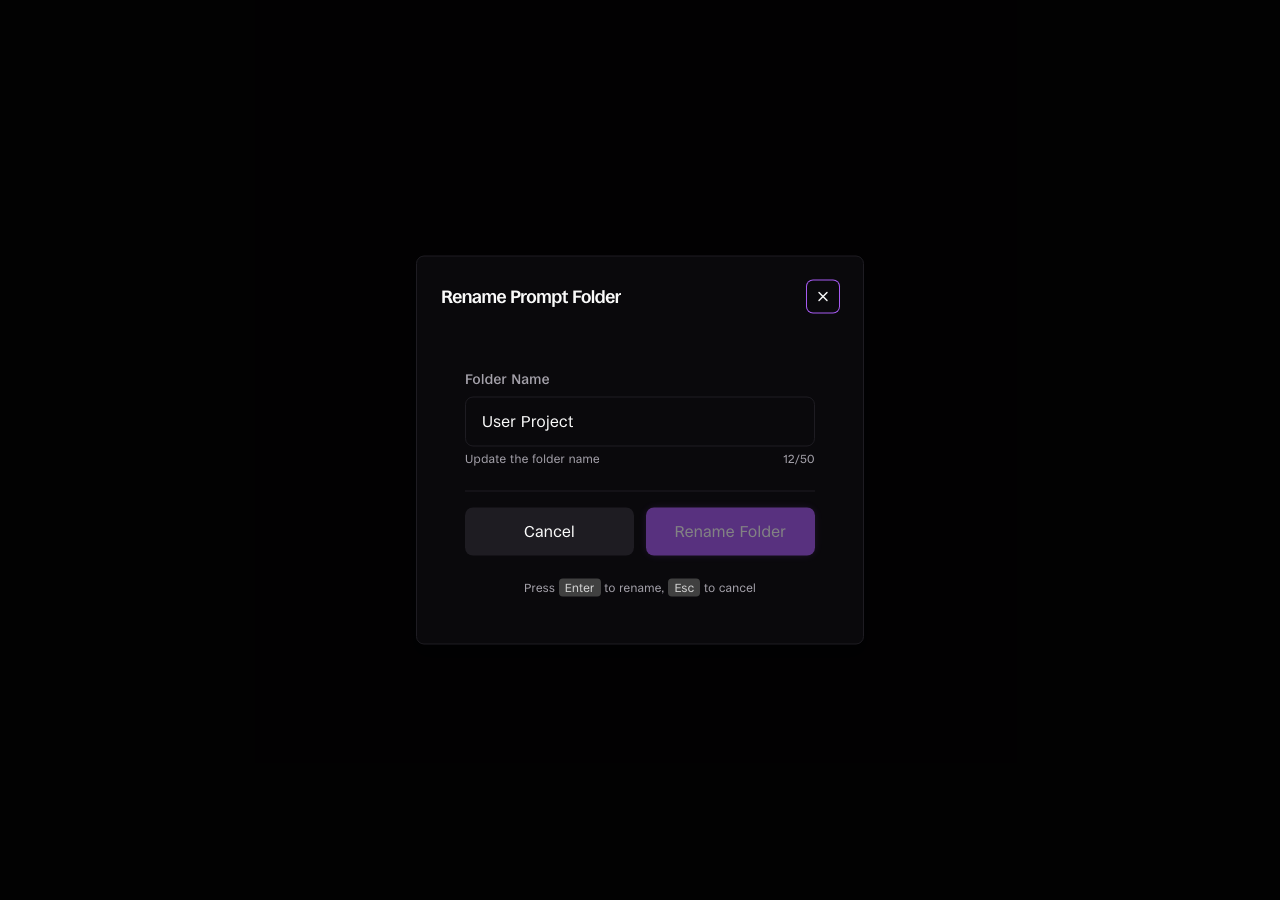
it: Folder Operations Error Handling › Network Error Handling › should handle network errors during rename operation with retry option
Note: Change the name and submit
Replace the text in the field labelled "Folder Name" with "New Folder Name" at {"x": 640, "y": 422}, box [465,396,815,446]
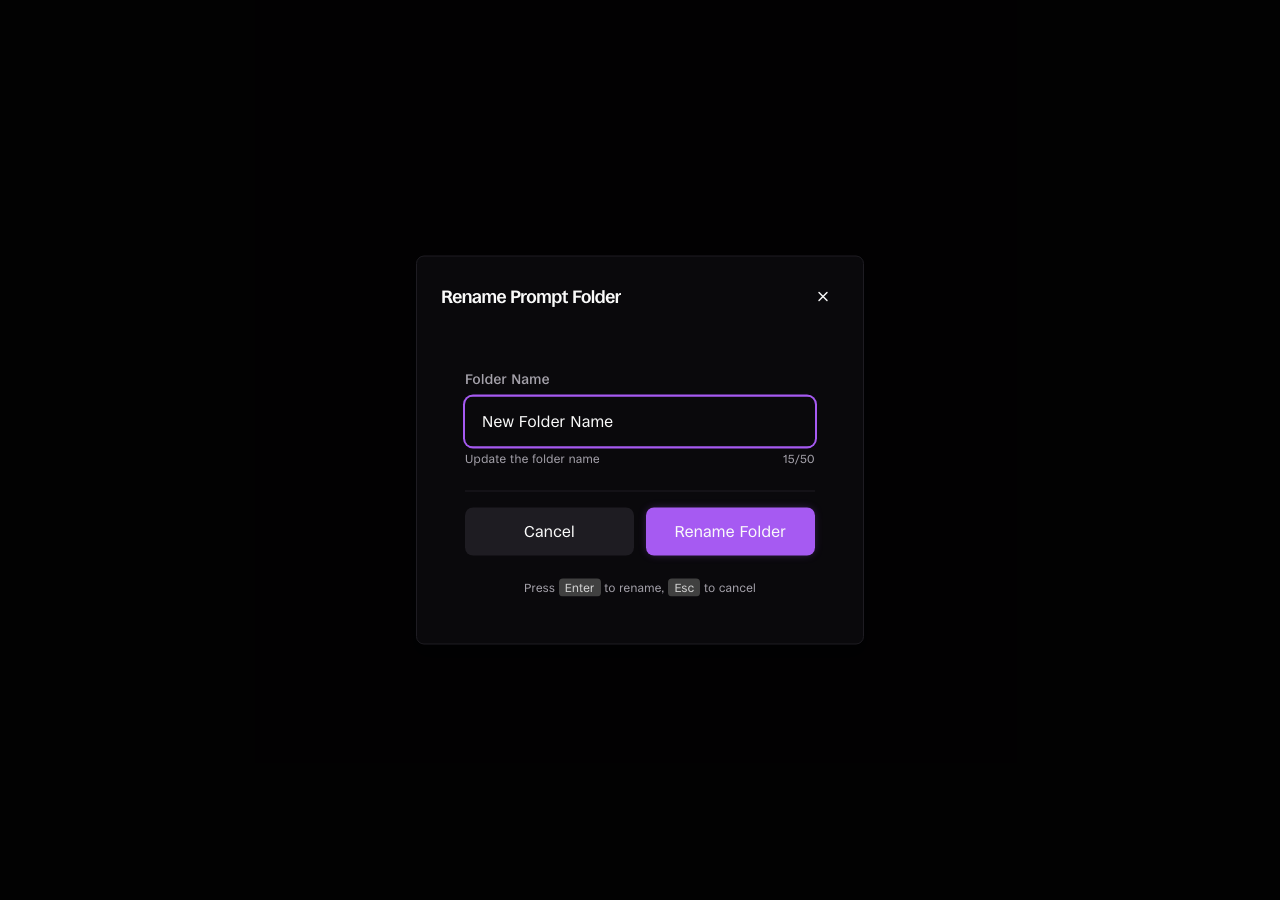
Click the button "Rename Folder" at {"x": 730, "y": 532}, box [646,508,815,556]
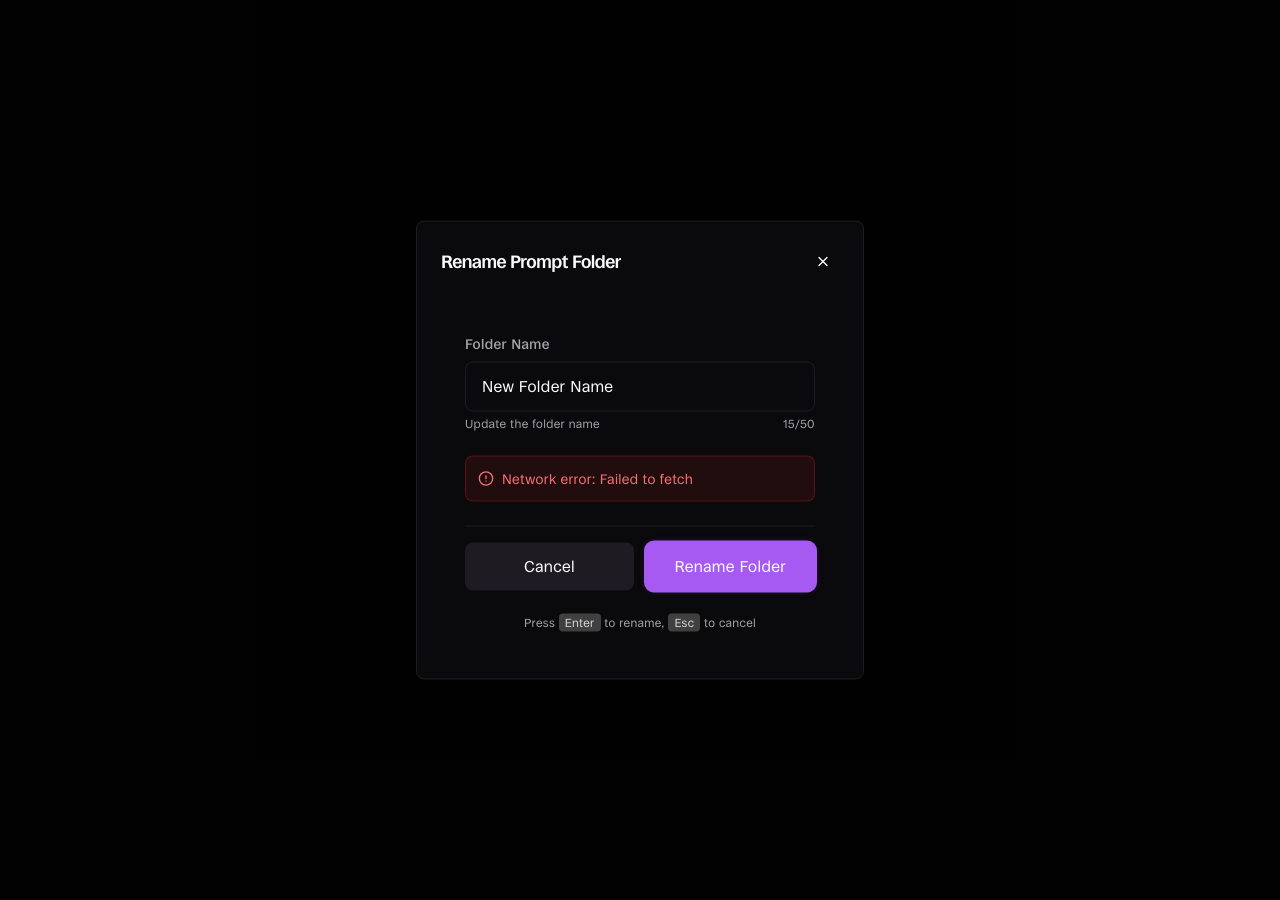
Check: the field labelled "Folder Name" is enabled, box [465,362,815,412]
Check: the button "Rename Folder" is enabled, box [646,542,815,590]
Check: the text "Network error: Failed to fetch" is shown, box [502,468,693,488]
